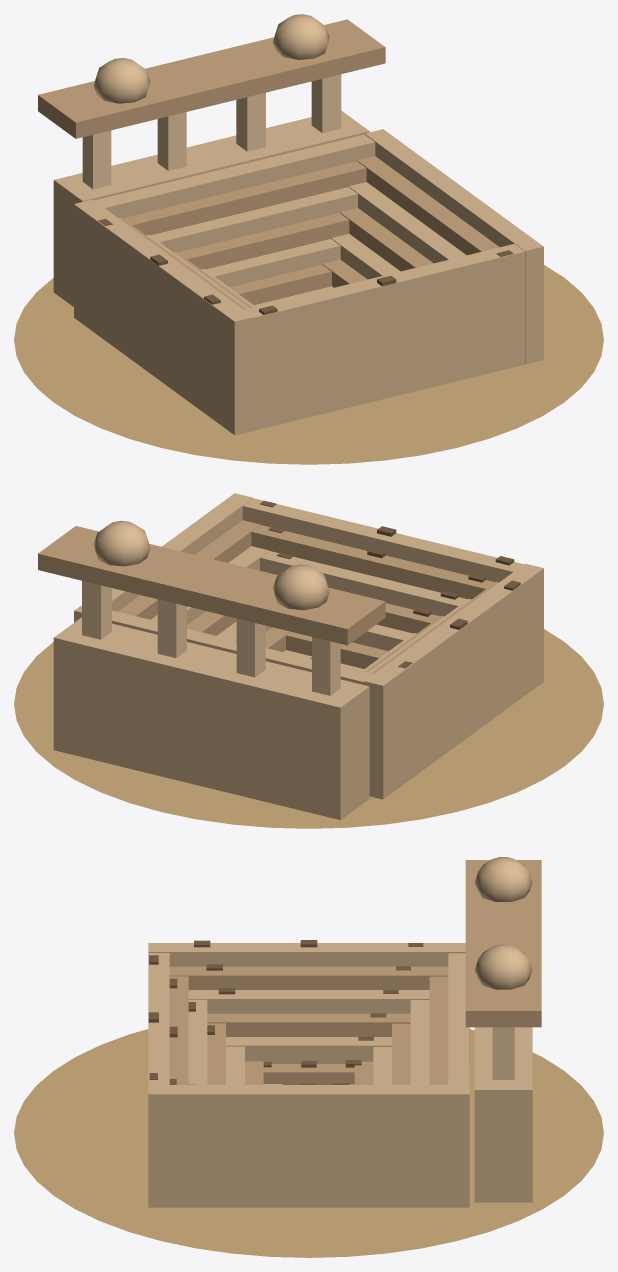
File: improvement_stepwell.fbx
The picture shows the model from 3 angles, top to bottom: view 1: azimuth 30°, elevation 25°; view 2: azimuth 150°, elevation 25°; view 3: azimuth 270°, elevation 25°; orthographic projection.
Parts seen in each view (by area): view 1: improvement_stepwell_swell_01, improvement_stepwell_sg#c8a878_00, improvement_stepwell_swell2_03, improvement_stepwell_swpil_05, improvement_stepwell_swshade_02; view 2: improvement_stepwell_swell_01, improvement_stepwell_sg#c8a878_00, improvement_stepwell_swell2_03, improvement_stepwell_swpil_05, improvement_stepwell_swshade_02; view 3: improvement_stepwell_swell_01, improvement_stepwell_sg#c8a878_00, improvement_stepwell_swell2_03, improvement_stepwell_swshade_02, improvement_stepwell_swpil_05.
Part boxes in pixels (x1,y1,x2,y2): improvement_stepwell_swell_01: [53, 14, 543, 435]; improvement_stepwell_sg#c8a878_00: [14, 265, 603, 464]; improvement_stepwell_swell2_03: [38, 19, 499, 309]; improvement_stepwell_swpil_05: [82, 74, 341, 189]; improvement_stepwell_swshade_02: [98, 218, 513, 314]; improvement_stepwell_swell_01: [53, 493, 543, 819]; improvement_stepwell_sg#c8a878_00: [14, 629, 603, 828]; improvement_stepwell_swell2_03: [38, 520, 498, 674]; improvement_stepwell_swpil_05: [82, 581, 340, 695]; improvement_stepwell_swshade_02: [260, 500, 520, 668]; improvement_stepwell_swell_01: [148, 857, 532, 1207]; improvement_stepwell_sg#c8a878_00: [14, 1029, 603, 1257]; improvement_stepwell_swell2_03: [169, 860, 541, 1084]; improvement_stepwell_swshade_02: [148, 940, 423, 1084]; improvement_stepwell_swpil_05: [492, 1027, 514, 1079].
Size of the model in its own units: 142 by 61.2 by 142.
